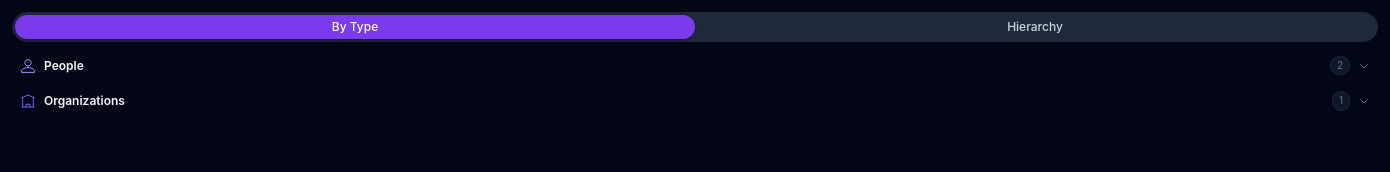
it: toggle between By Type and Hierarchy re-renders without error
Click the button "Hierarchy": (1035, 27) [695,15,1375,39]
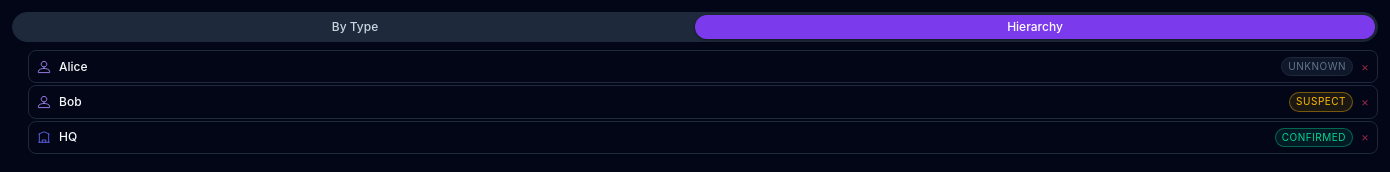
Check: the button "Alice" is shown, box [59,59,1273,75]
Click the button "By Type": (355, 27) [15,15,695,39]
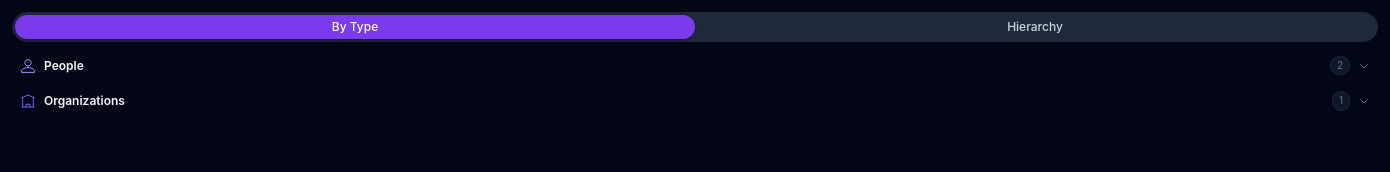
Check: the text "People" is shown, box [44,58,84,73]
Check: the button "Alice" is gone
